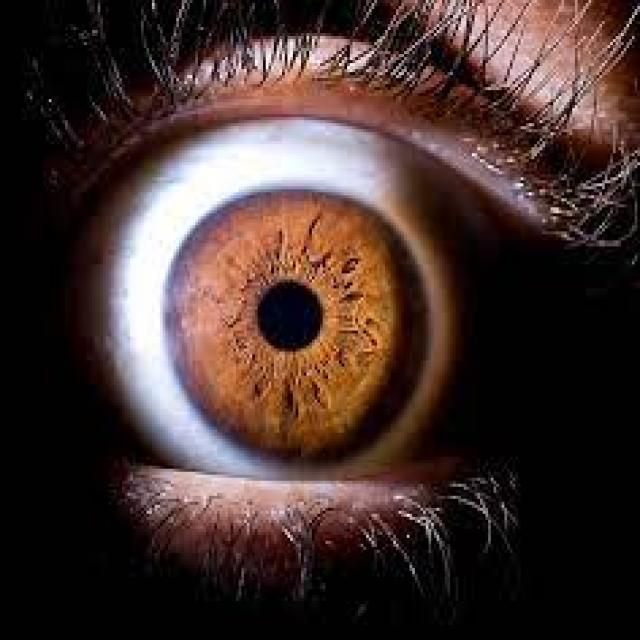Eyes-iris: (154, 180, 436, 470)
